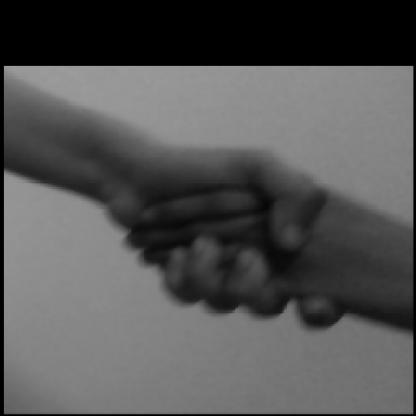handshake: (4, 70, 415, 334)
